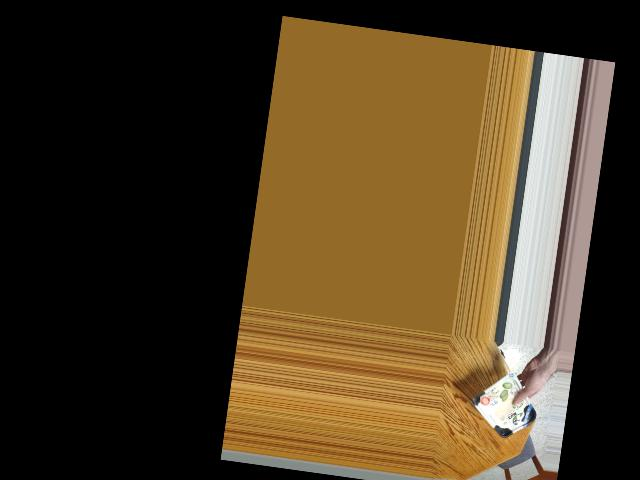cheese: (475, 387, 535, 433)
